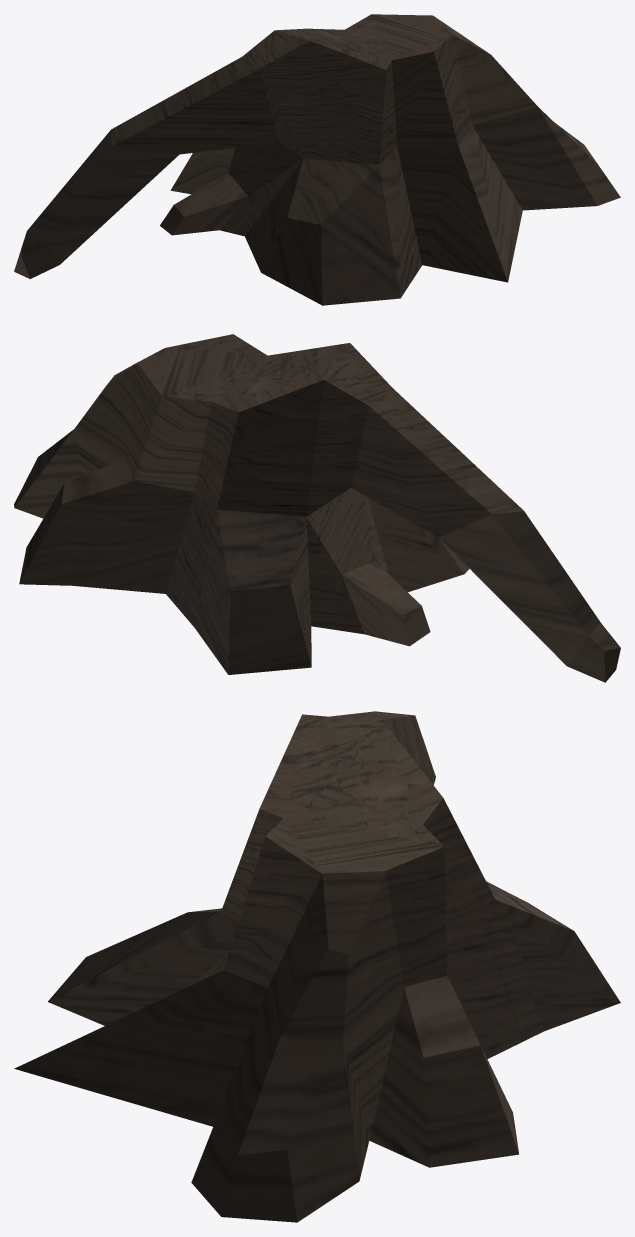
3 views of the same model, one above another, from view 1: azimuth 30°, elevation 25°; view 2: azimuth 150°, elevation 25°; view 3: azimuth 270°, elevation 25° (orthographic). The views are drawn at different scales.
Parts seen in each view (by area): view 1: Cube.007; view 2: Cube.007; view 3: Cube.007.
Part boxes in pixels (left/top/right/bottom): Cube.007: left=14, top=14, right=620, bottom=305; Cube.007: left=14, top=334, right=620, bottom=682; Cube.007: left=14, top=711, right=620, bottom=1222.
Bounding box in the file's own units: 98.89 × 36.08 × 65.3.
Materials: 1 (1 with a texture image).
